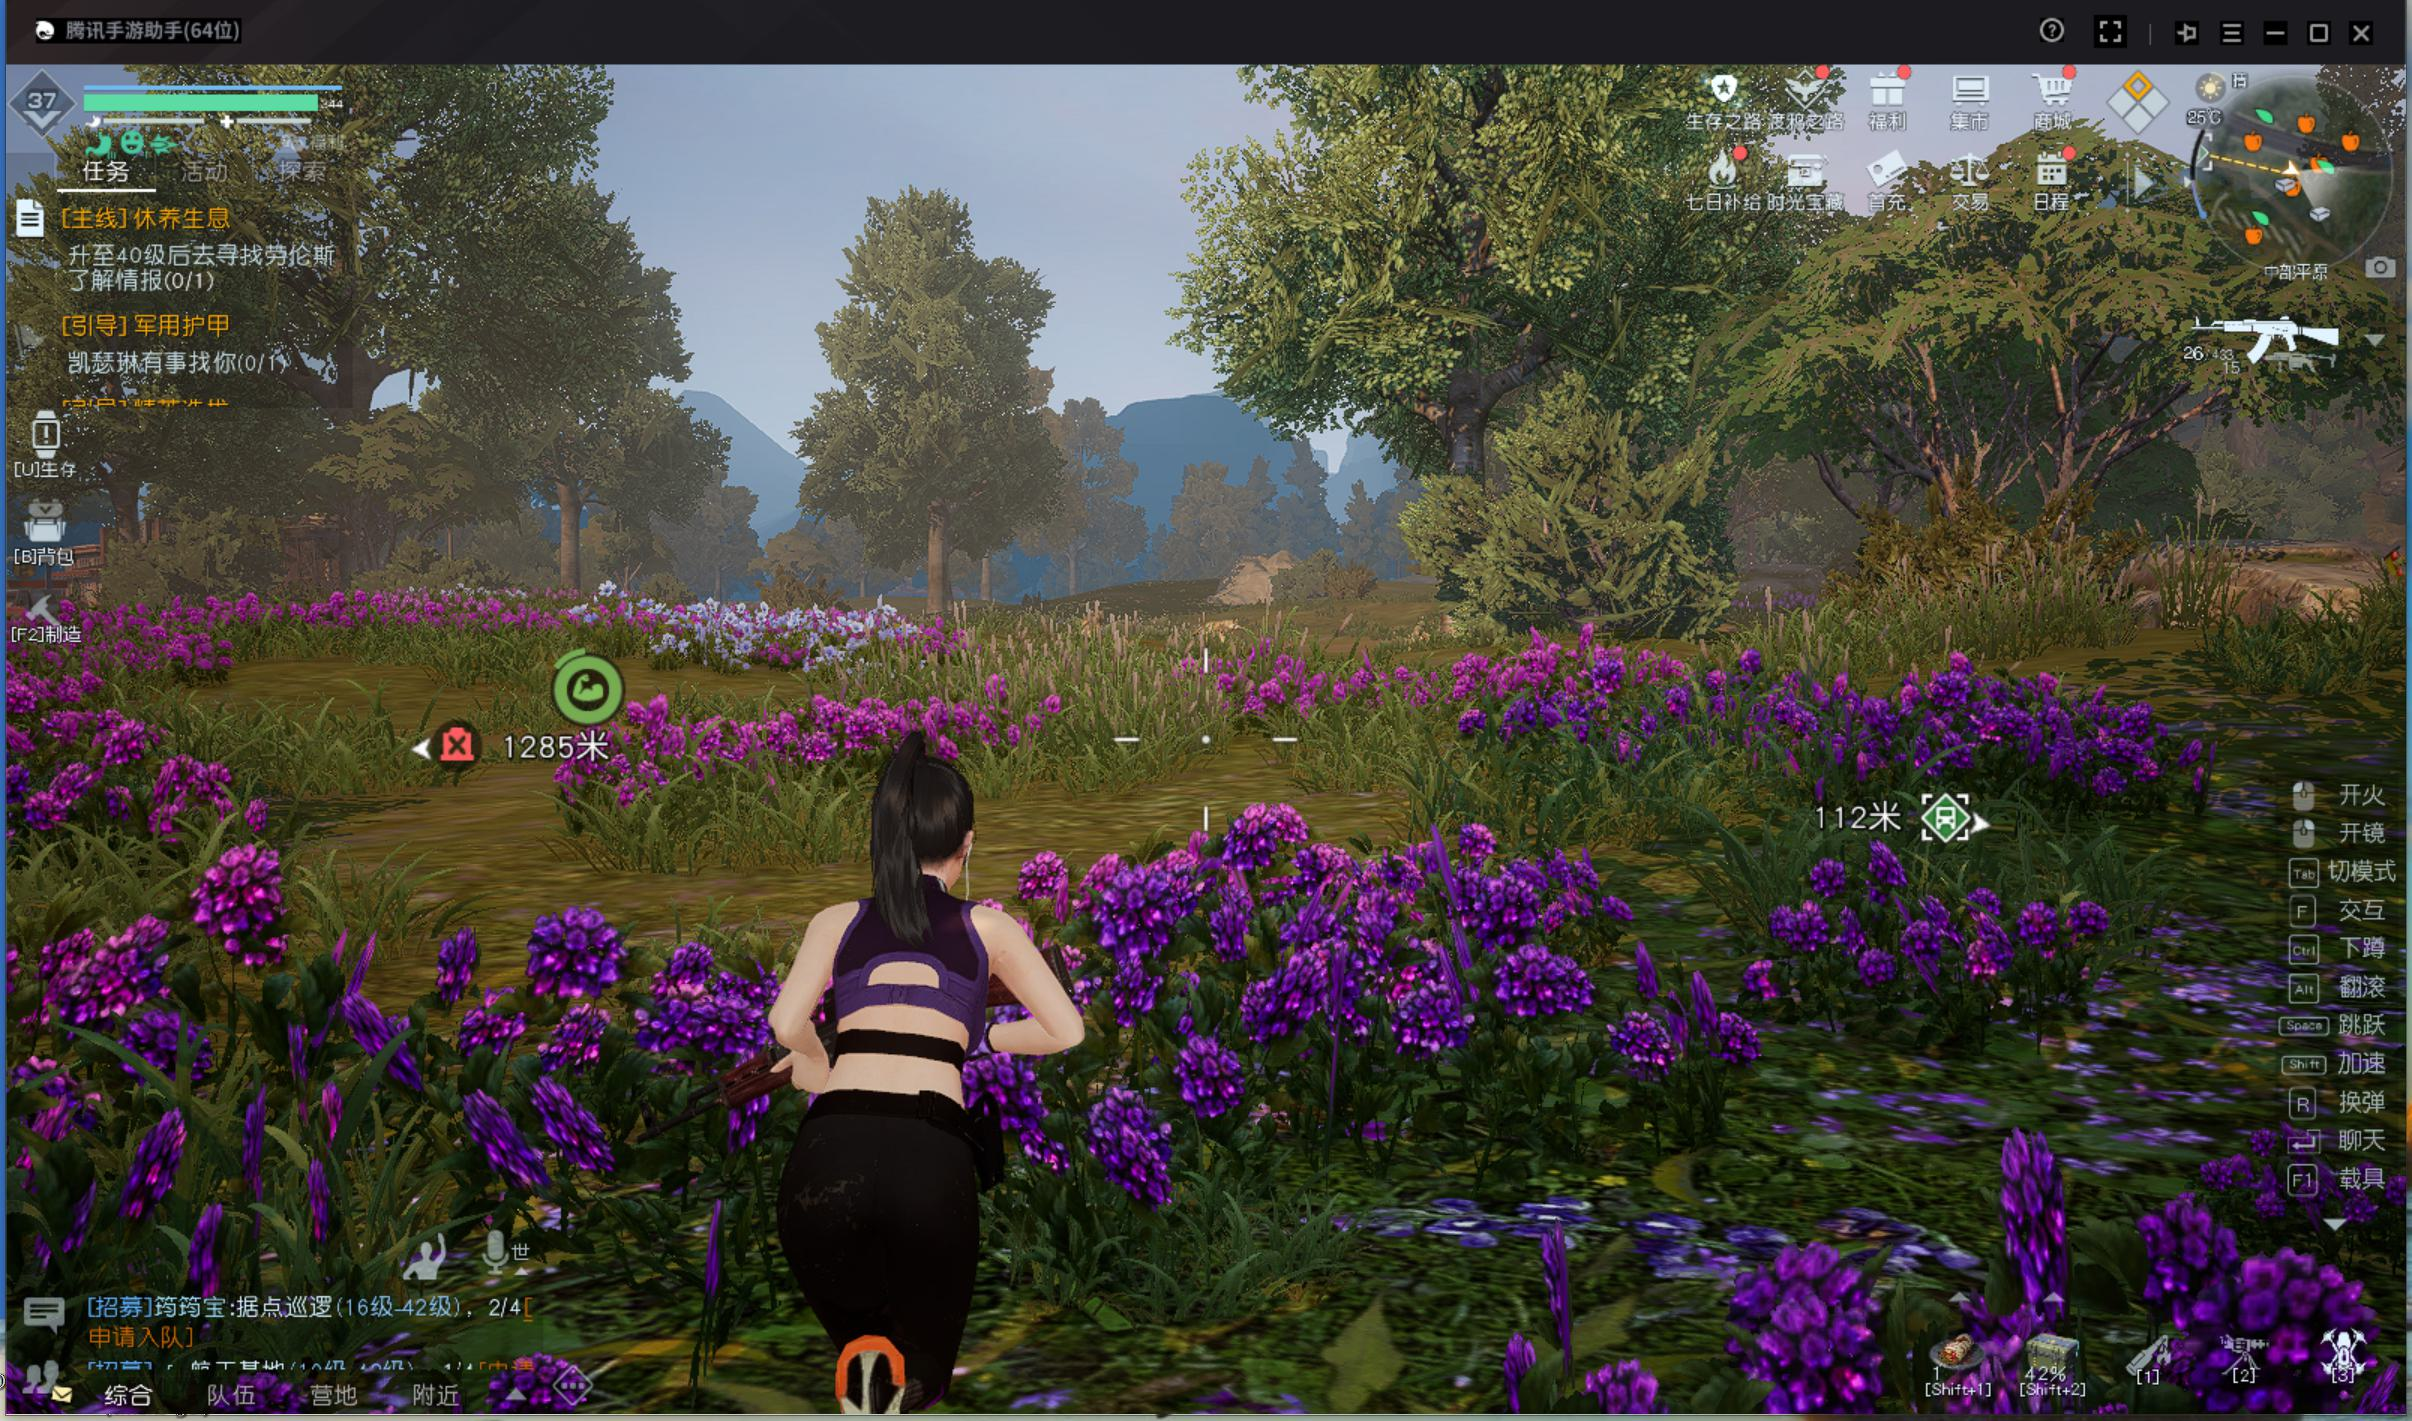tree: (550, 491, 590, 612), (917, 519, 959, 624)
